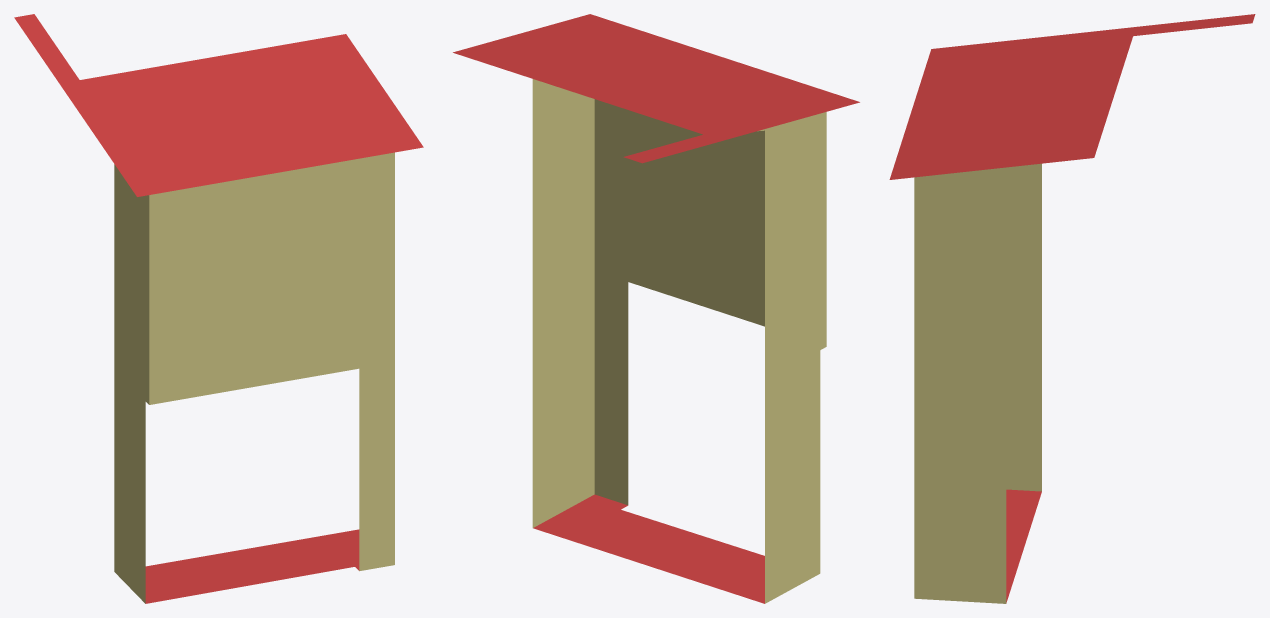
3 renders of one model, left to right at view 1: azimuth 30°, elevation 25°; view 2: azimuth 150°, elevation 25°; view 3: azimuth 270°, elevation 25°, orthographic. The views are drawn at different scales.
Bounding box in the file's own units: 7.59 × 8.23 × 11.91.
